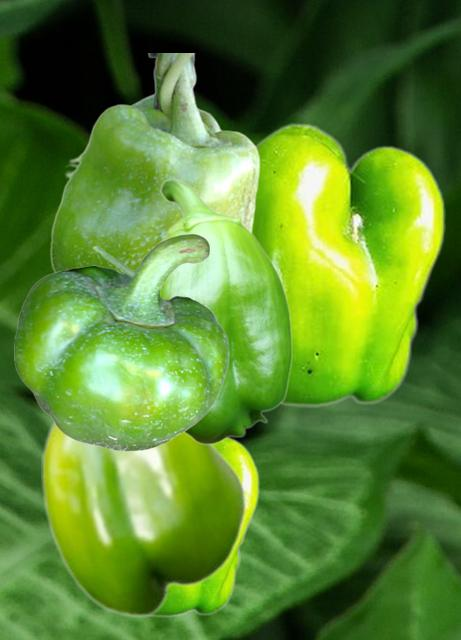bell_pepper: (253, 122, 444, 406), (49, 53, 262, 272), (14, 233, 228, 450), (41, 421, 246, 617), (151, 178, 292, 444), (154, 439, 258, 616)
